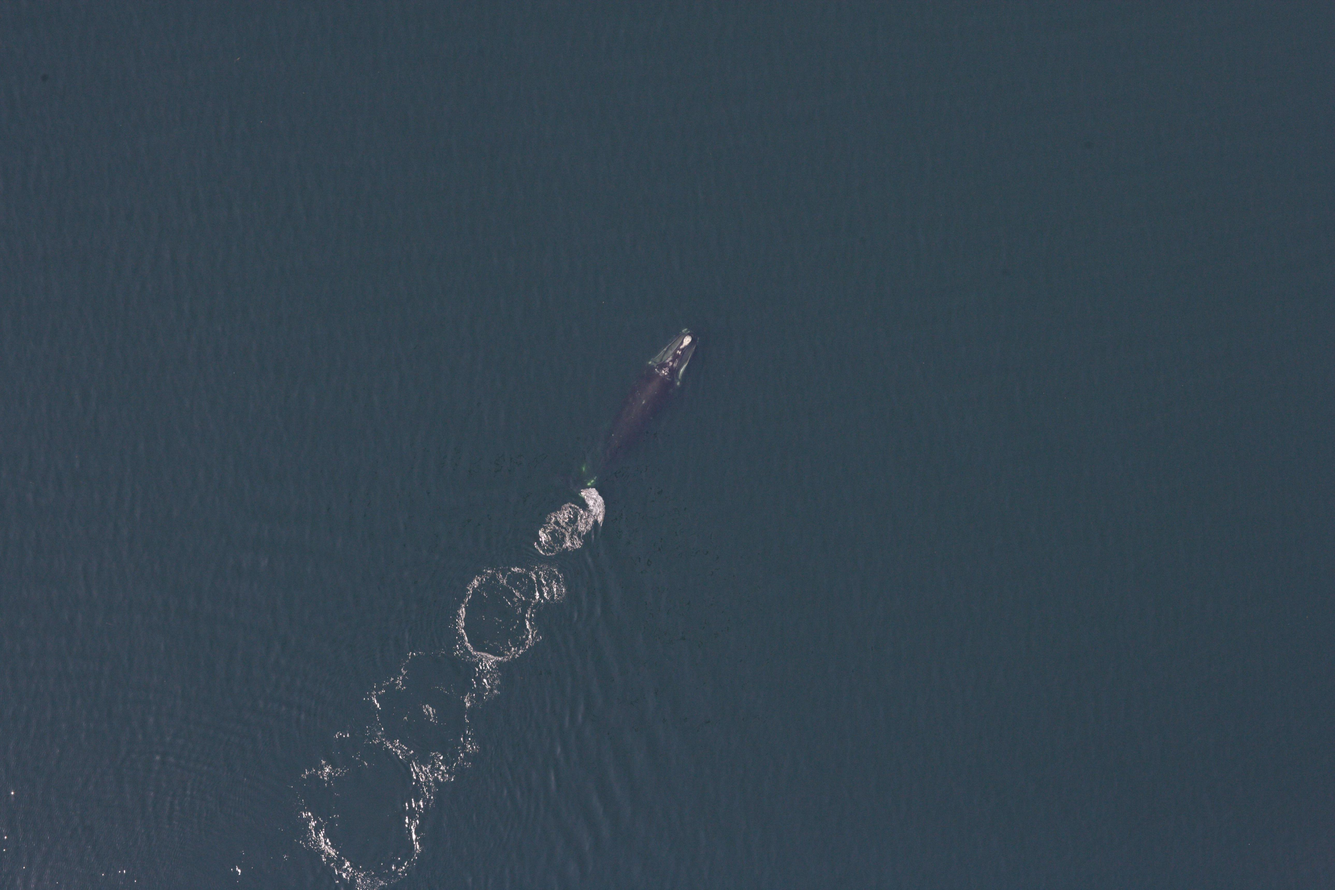whale: (549, 323, 710, 509)
